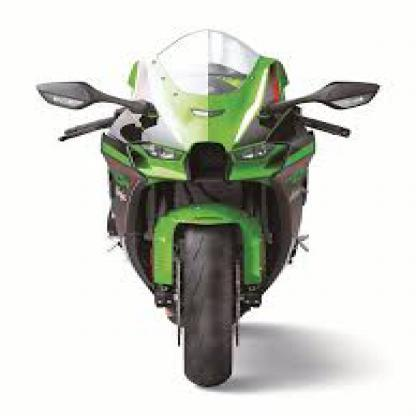Motorcycle: (23, 12, 389, 397)
